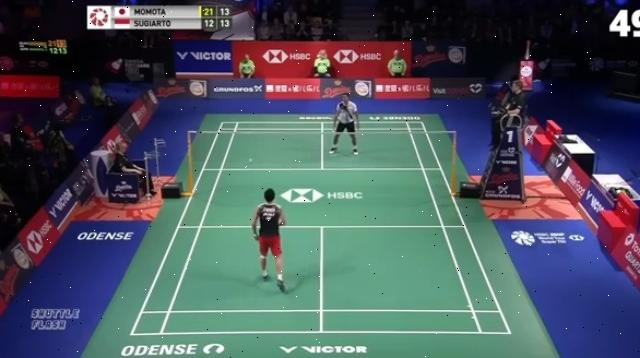Shuttlecock: (248, 156, 256, 164)
